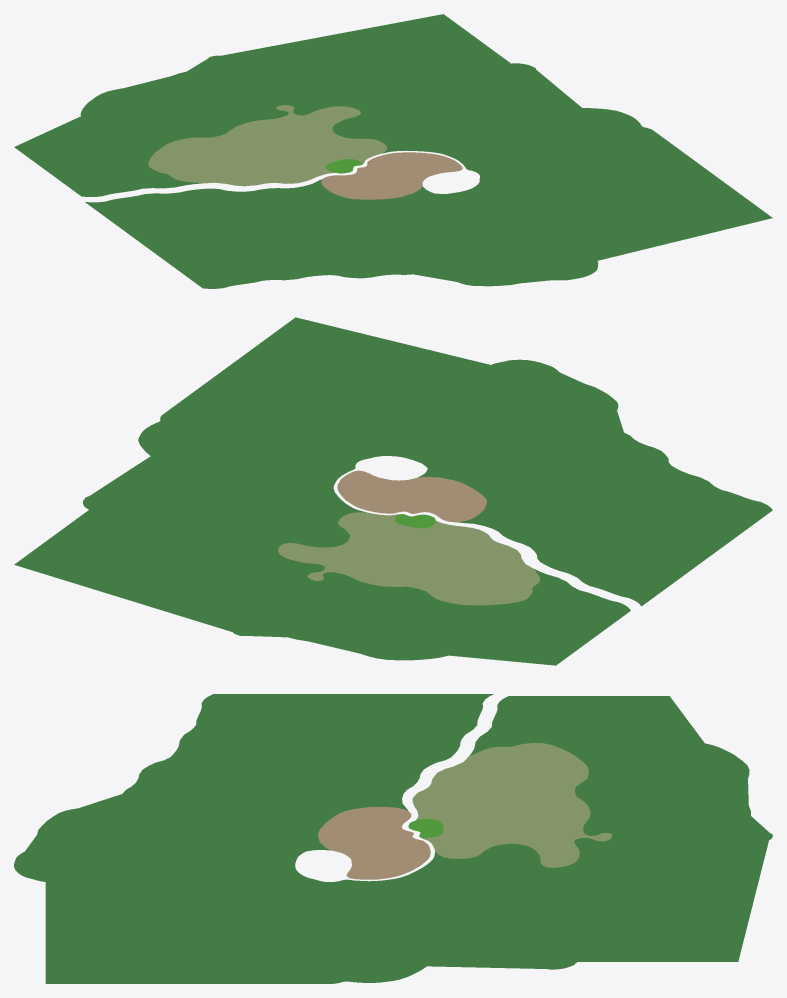
The model's file is rough_base.fbx.
3 views of the same model, one above another, from view 1: azimuth 30°, elevation 25°; view 2: azimuth 150°, elevation 25°; view 3: azimuth 270°, elevation 25° (orthographic). The views are drawn at different scales.
Visible parts, largest first — view 1: Garden; view 2: Garden; view 3: Garden.
Boxes of the visible parts, x1,y1,x2,y2 form: Garden: [14, 14, 772, 288]; Garden: [14, 317, 772, 665]; Garden: [14, 694, 772, 983].
Bounding box in the file's own units: 9449 × 0.000413 × 8540.
